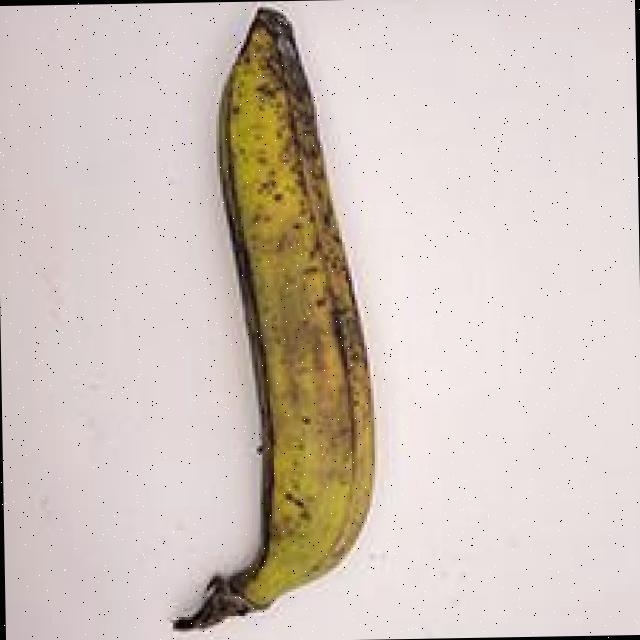Overripe: (136, 2, 422, 635)
